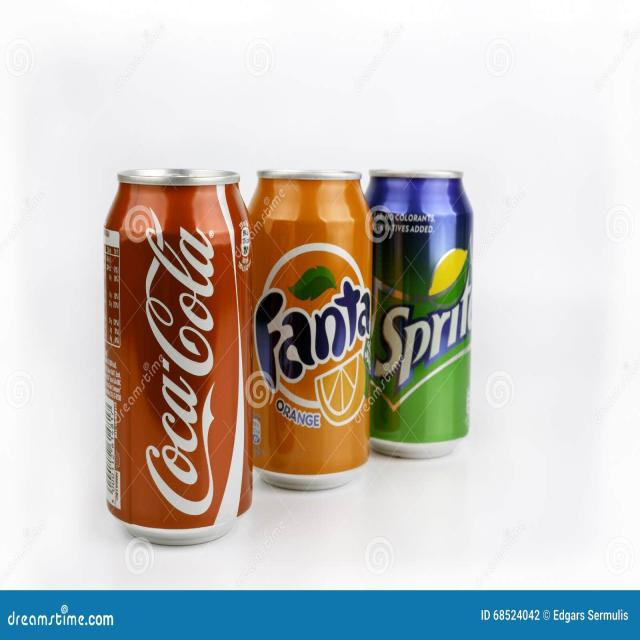cocacola: (95, 170, 251, 544)
sprite: (362, 168, 476, 466)
